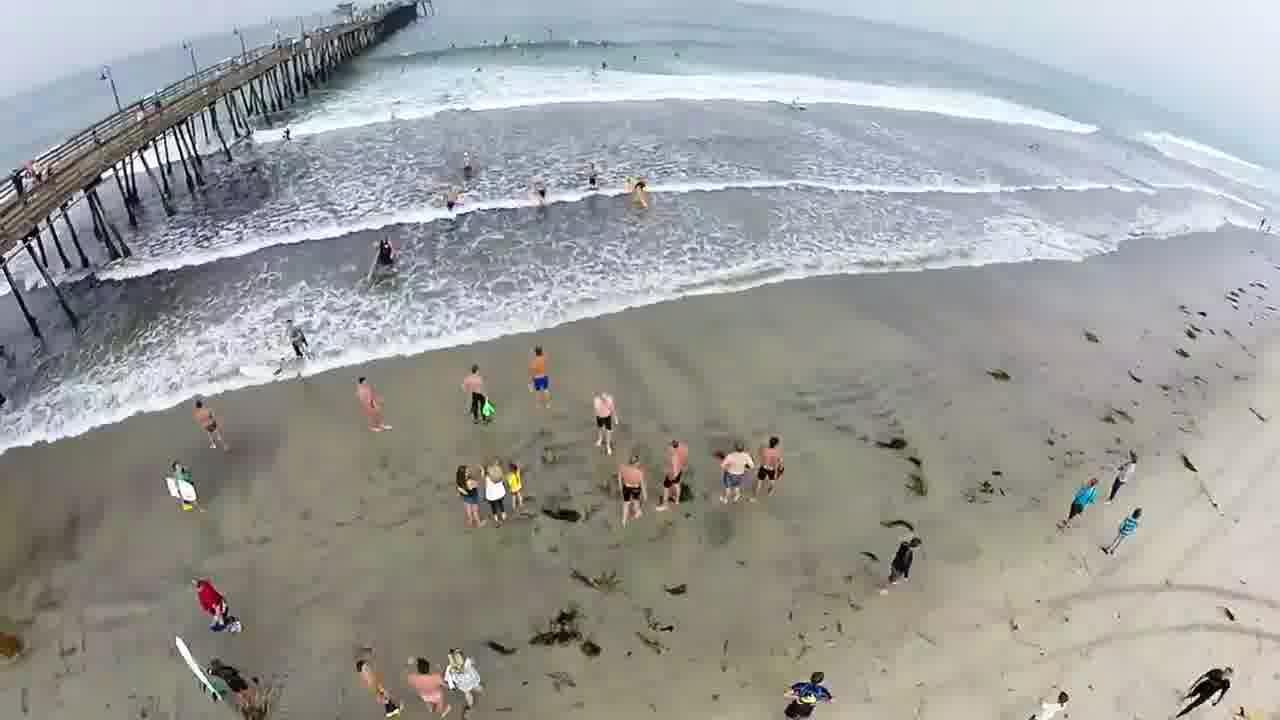swimmer: (368, 232, 407, 273), (276, 310, 317, 346), (431, 185, 470, 218), (624, 173, 656, 203), (575, 158, 599, 192), (528, 182, 552, 209)
